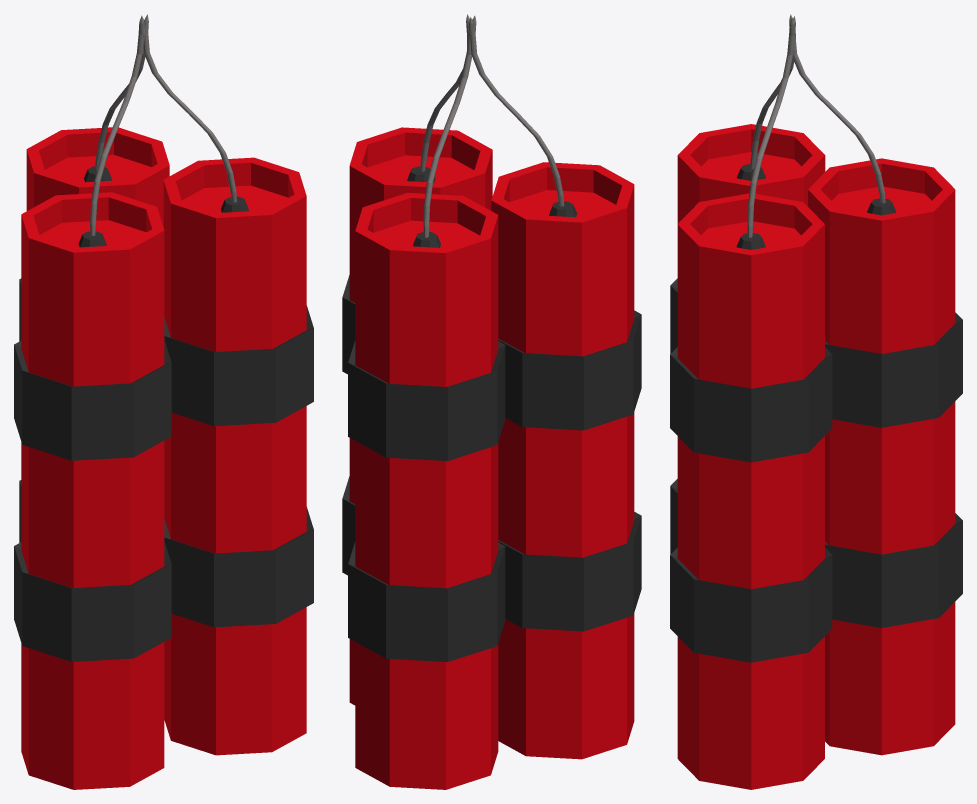
File: Dynamite.fbx
3 renders of one model, left to right at view 1: azimuth 30°, elevation 25°; view 2: azimuth 150°, elevation 25°; view 3: azimuth 270°, elevation 25°, orthographic.
Parts seen in each view (by area): view 1: Cylindre, Cylindre.001, Cylindre.002, Cylindre.003, Cylindre.005, Cylindre.006; view 2: Cylindre.002, Cylindre, Cylindre.001, Cylindre.006, Cylindre.003, Cylindre.005; view 3: Cylindre.001, Cylindre.002, Cylindre, Cylindre.005, Cylindre.006, Cylindre.003.
Boxes of the visible parts, <box> form: Cylindre: <box>14,192,171,789</box>; Cylindre.001: <box>163,157,313,755</box>; Cylindre.002: <box>19,127,169,542</box>; Cylindre.003: <box>90,16,144,235</box>; Cylindre.005: <box>143,14,236,202</box>; Cylindre.006: <box>95,15,145,170</box>; Cylindre.002: <box>348,192,505,789</box>; Cylindre: <box>491,162,641,759</box>; Cylindre.001: <box>342,127,492,705</box>; Cylindre.006: <box>423,17,472,237</box>; Cylindre.003: <box>470,16,564,206</box>; Cylindre.005: <box>420,14,469,171</box>; Cylindre.001: <box>670,193,832,789</box>; Cylindre.002: <box>808,158,962,755</box>; Cylindre: <box>670,124,825,554</box>; Cylindre.005: <box>747,17,794,237</box>; Cylindre.006: <box>792,16,885,203</box>; Cylindre.003: <box>750,14,795,169</box>.
Bounding box in the file's own units: 44.14 × 106 × 39.69.
